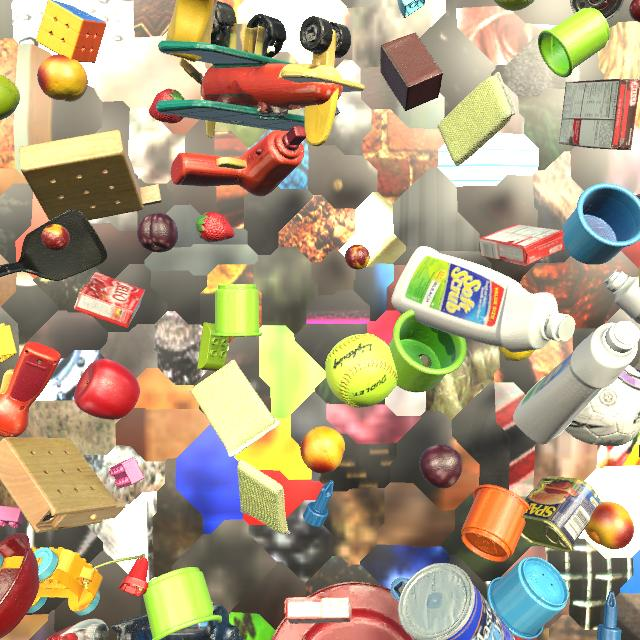ycb_002_master_chef_can: (398, 563, 515, 640)
ycb_005_tomato_soup_can: (570, 0, 624, 20)
ycb_006_mustard_bottle: (166, 0, 218, 62)
ycb_008_pudding_box: (559, 79, 640, 150)
ycb_009_gelatin_box: (74, 272, 145, 328), (479, 224, 565, 266), (284, 596, 352, 624)
ycb_010_potted_meat_can: (521, 476, 601, 553)
ycb_011_banana: (639, 266, 640, 289)
ycb_012_strawberry: (149, 89, 185, 123), (196, 212, 235, 242)
ycb_013_apple: (74, 359, 140, 420)
ycb_014_lemon: (499, 347, 535, 361)
ycb_015_peach: (37, 54, 88, 102), (585, 502, 634, 549), (300, 426, 345, 473)
ycb_016_pear: (0, 74, 20, 120)
ycb_018_plum: (419, 444, 462, 489), (137, 212, 178, 252), (635, 194, 640, 200)
